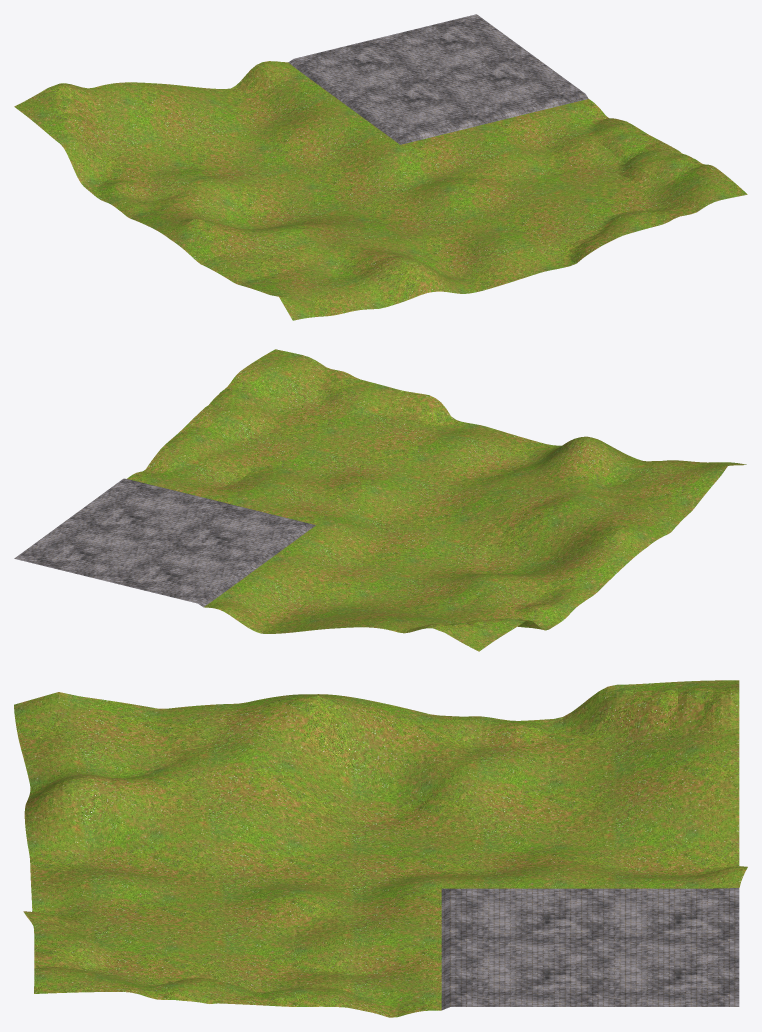
Rendered from town_square.glb.
The picture shows the model from 3 angles, top to bottom: view 1: azimuth 30°, elevation 25°; view 2: azimuth 150°, elevation 25°; view 3: azimuth 270°, elevation 25°; orthographic projection. The views are drawn at different scales.
Visible parts, largest first — view 1: Plane; view 2: Plane; view 3: Plane.
Part boxes in pixels (x1,y1,x2,y2): Plane: (14, 14, 747, 320); Plane: (14, 349, 746, 651); Plane: (14, 680, 747, 1017).
Bounding box in the file's own units: 205 × 24.02 × 207.
2 materials, 2 textured.
